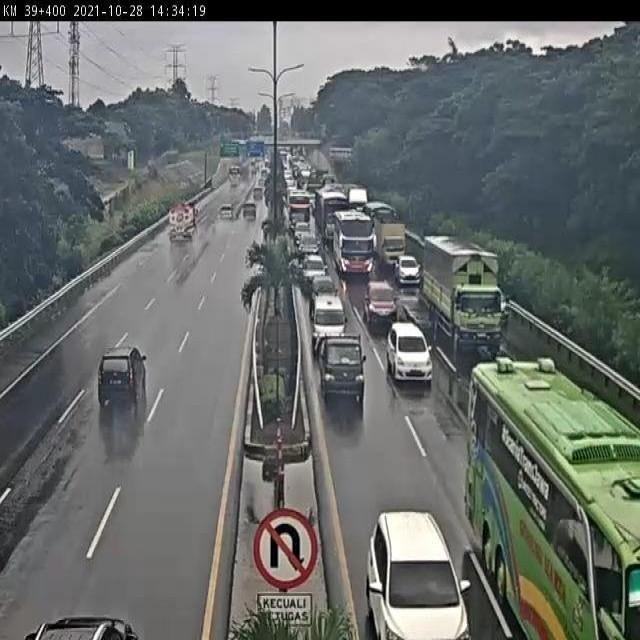big bus: (468, 354, 640, 640), (330, 205, 373, 275), (314, 190, 347, 242), (285, 191, 313, 232)
big truck: (424, 233, 502, 352), (364, 202, 404, 266)
car: (365, 512, 461, 640), (313, 327, 366, 392), (384, 317, 433, 387), (98, 348, 148, 409), (309, 292, 346, 345), (362, 275, 395, 325), (169, 203, 199, 249), (393, 250, 417, 282), (341, 250, 367, 278), (306, 274, 336, 298), (297, 238, 318, 266), (239, 199, 261, 225), (296, 224, 318, 248), (252, 182, 271, 206), (302, 250, 323, 270), (218, 204, 235, 225), (292, 220, 309, 240)
